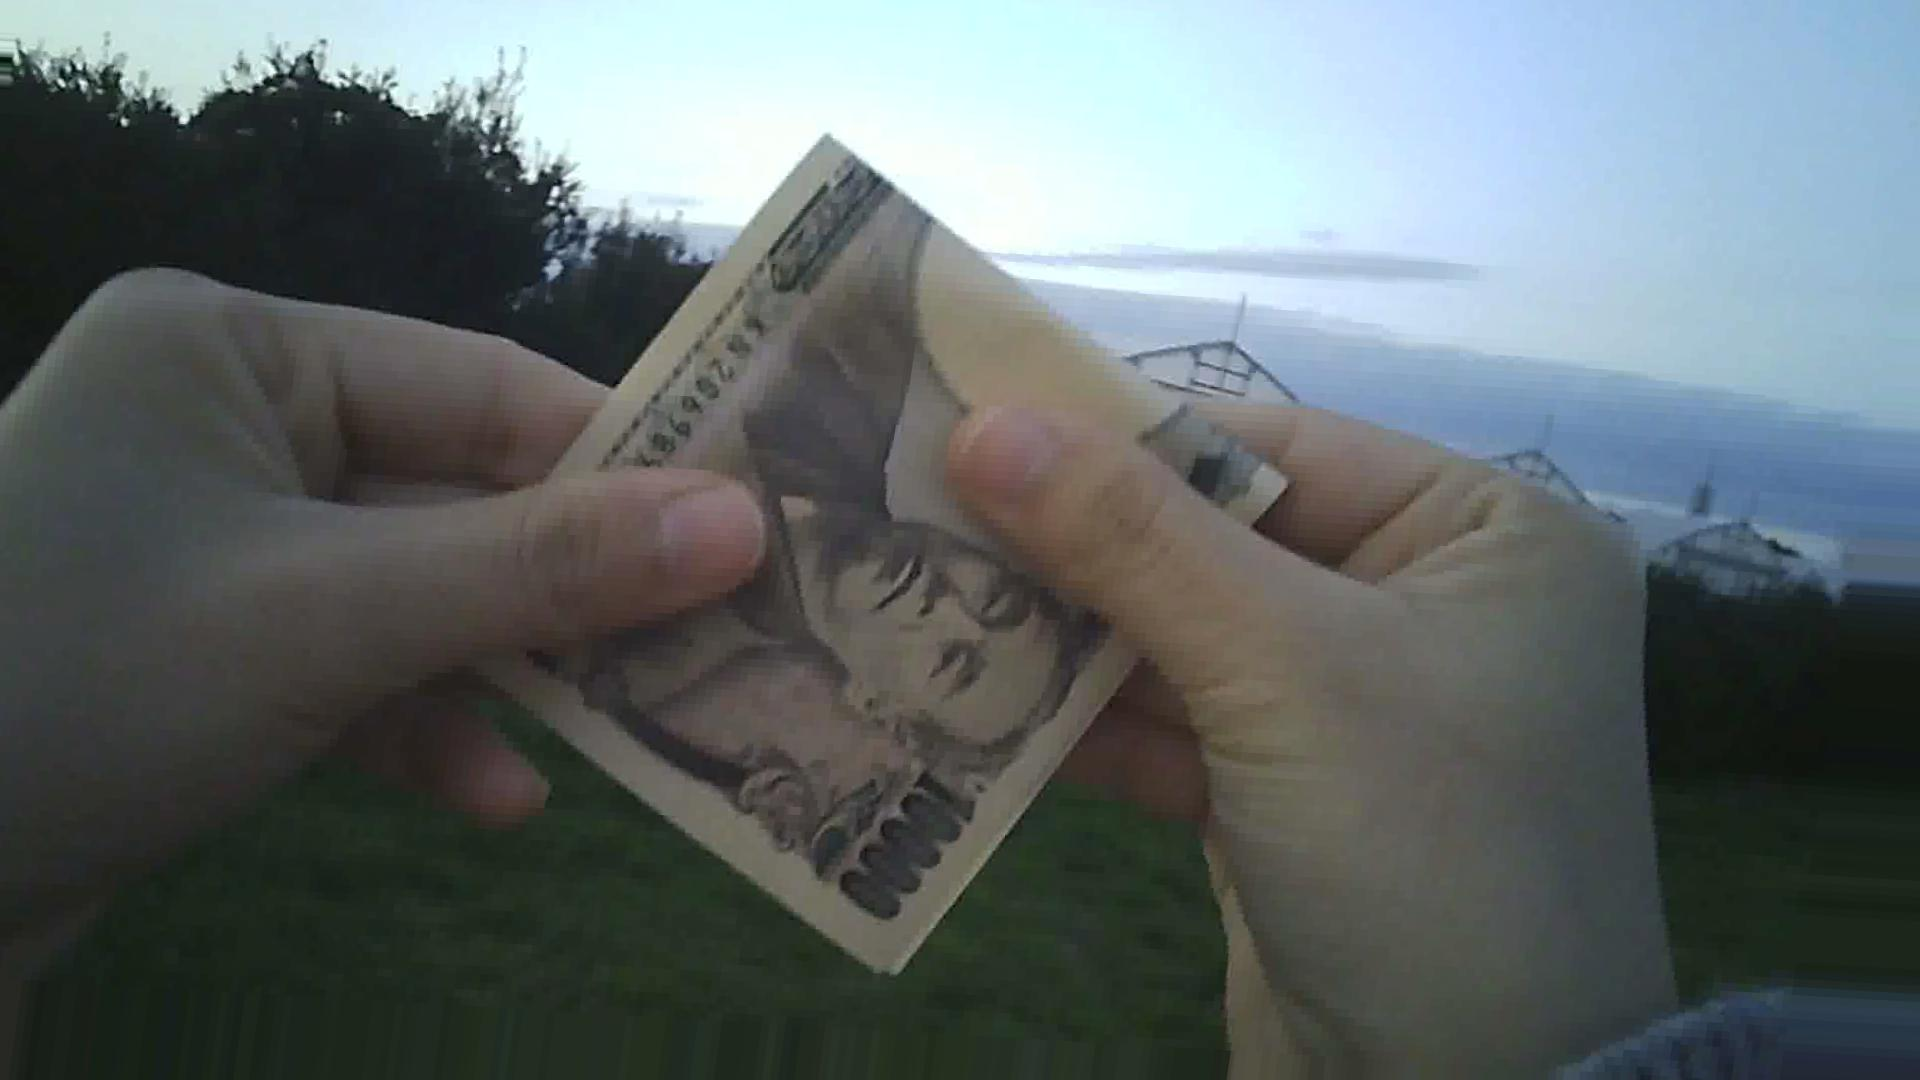10,000 Yen: (427, 156, 1261, 1015)
